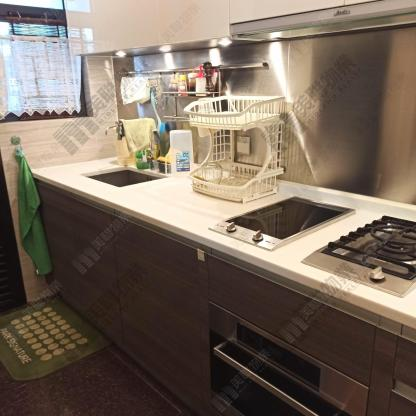Exhaust Hood: (229, 0, 416, 42)
Oven: (210, 302, 373, 416)
Sink: (71, 163, 179, 192)
Stove: (189, 191, 374, 265), (299, 212, 416, 298)
